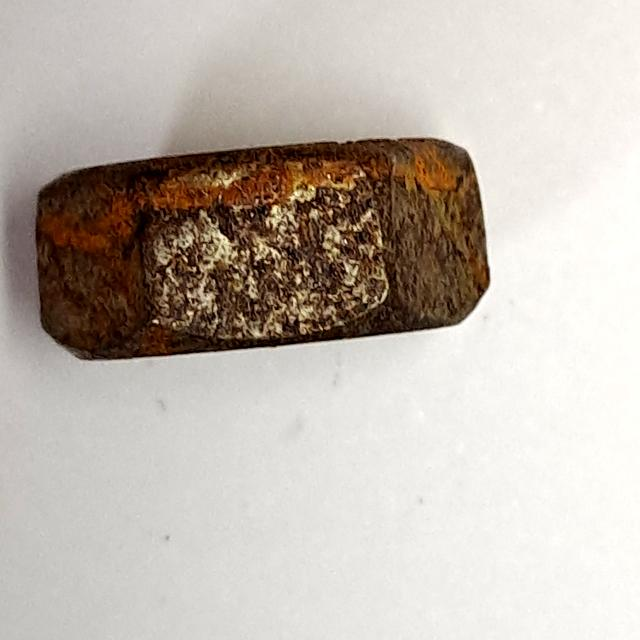Side_Rust: (30, 128, 504, 374)
